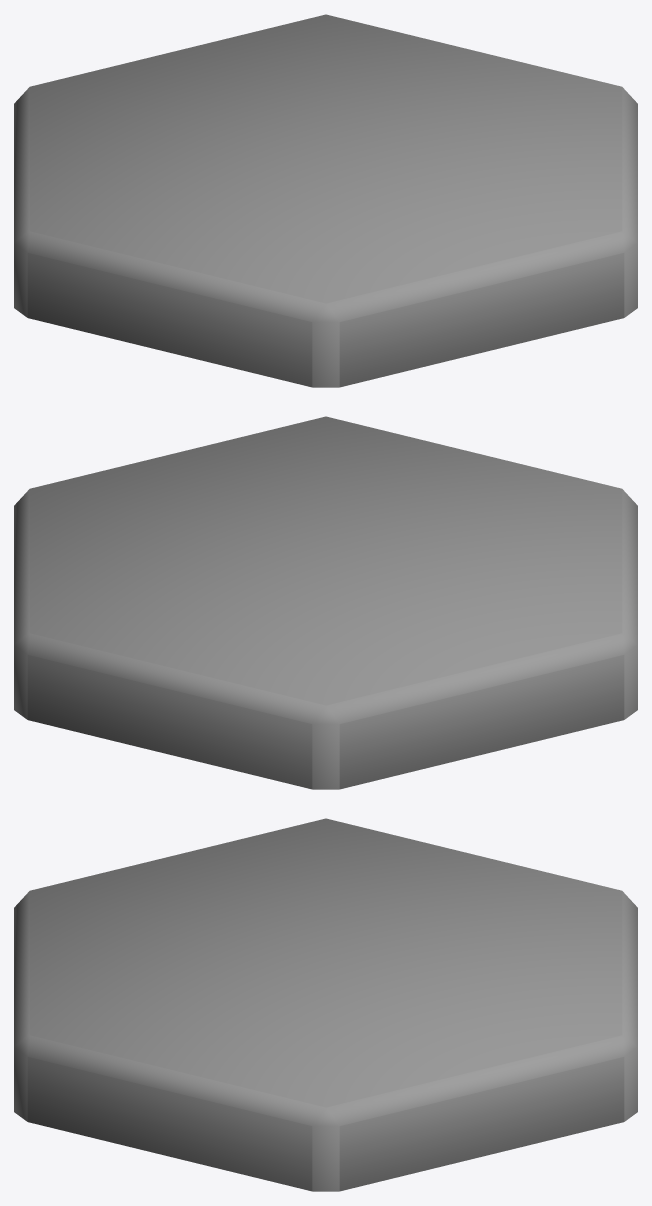
File: bavel_spot_small_gray.fbx
The picture shows the model from 3 angles, top to bottom: view 1: azimuth 30°, elevation 25°; view 2: azimuth 150°, elevation 25°; view 3: azimuth 270°, elevation 25°; orthographic projection.
Visible parts, largest first — view 1: bavel_spot_small_gray; view 2: bavel_spot_small_gray; view 3: bavel_spot_small_gray.
Boxes of the visible parts, x1,y1,x2,y2 form: bavel_spot_small_gray: [14, 14, 637, 387]; bavel_spot_small_gray: [14, 416, 637, 789]; bavel_spot_small_gray: [14, 818, 637, 1191].
Bounding box in the file's own units: 161 × 20.07 × 143.
Materials: 1 (1 with a texture image).
